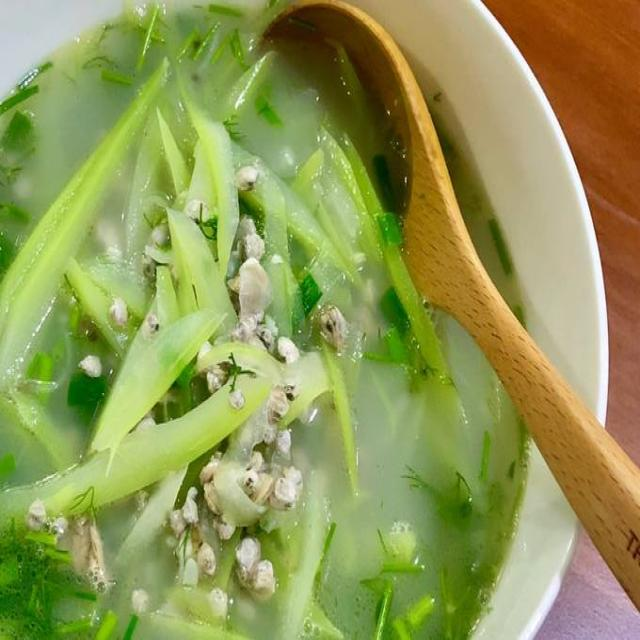canh bau: (0, 4, 527, 639)
